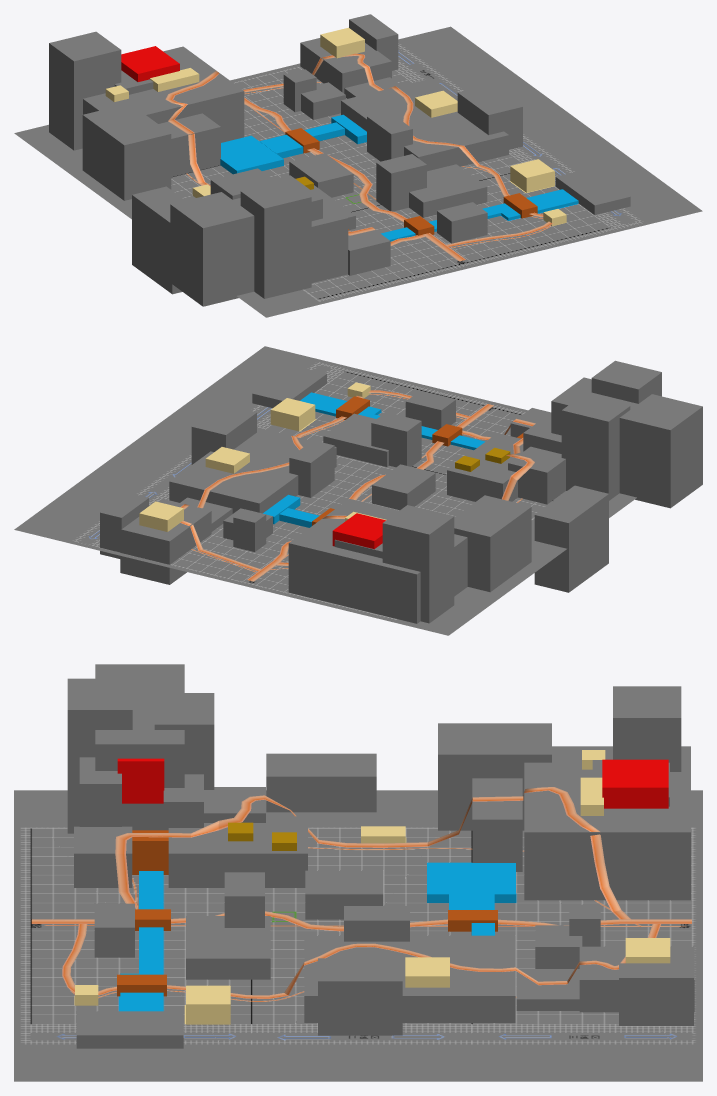
The model's file is hgs_xl01.fbx.
The picture shows the model from 3 angles, top to bottom: view 1: azimuth 30°, elevation 25°; view 2: azimuth 150°, elevation 25°; view 3: azimuth 270°, elevation 25°; orthographic projection. The views are drawn at different scales.
Visible parts, largest first — view 1: hgs_xl01a, hgs_xl01b, hgs_xl01c; view 2: hgs_xl01a, hgs_xl01b, hgs_xl01c; view 3: hgs_xl01a, hgs_xl01b, hgs_xl01c.
Boxes of the visible parts, left/top/right/bottom form: hgs_xl01a: left=49, top=14, right=630, bottom=306; hgs_xl01b: left=14, top=26, right=702, bottom=317; hgs_xl01c: left=105, top=27, right=578, bottom=261; hgs_xl01a: left=100, top=360, right=702, bottom=623; hgs_xl01b: left=14, top=346, right=636, bottom=635; hgs_xl01c: left=139, top=382, right=535, bottom=581; hgs_xl01a: left=67, top=664, right=694, bottom=1048; hgs_xl01b: left=14, top=790, right=702, bottom=1081; hgs_xl01c: left=31, top=750, right=691, bottom=1024.
Bounding box in the file's own units: 85.36 × 23.3 × 79.32.
